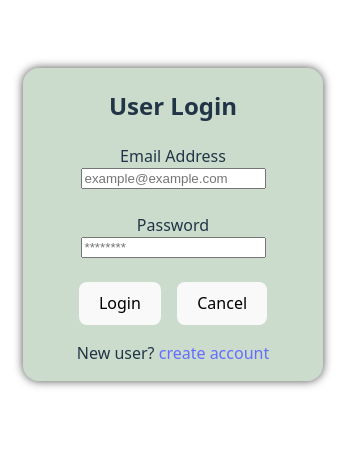
Test case: Test create user presentation › Should request the user email
The width and height of the screenshot is (347, 450).
Click the link "create account" at (214, 353), box [159,342,269,364]
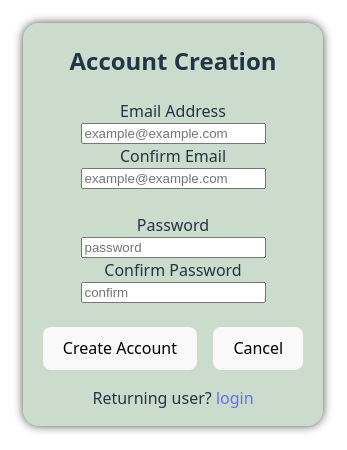
Expected: the text "Email Address" is shown, [120,99,226,123]
Expected: the text "Confirm Email" is shown, [120,144,226,168]
Expected: the number of fields with placeholder "example@example.com" is 2, [80,123,266,144]; [80,168,266,189]
